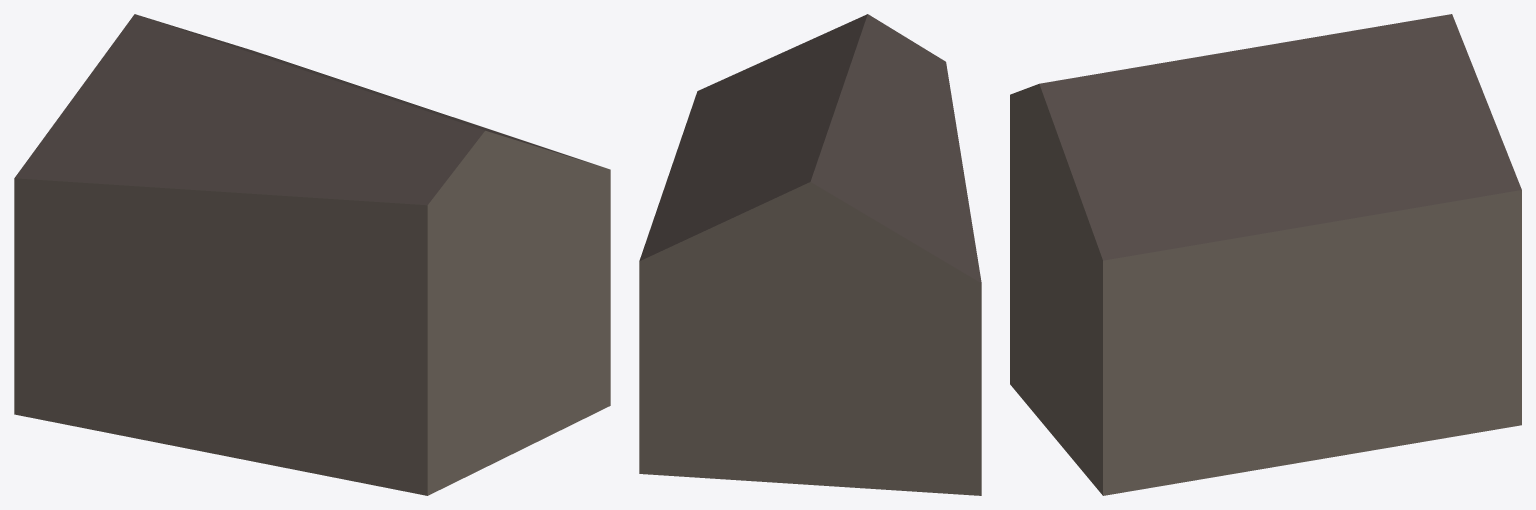
3 renders of one model, left to right at view 1: azimuth 30°, elevation 25°; view 2: azimuth 150°, elevation 25°; view 3: azimuth 270°, elevation 25°, orthographic. The views are drawn at different scales.
Visible parts, largest first — view 1: HP-w1198664281; view 2: HP-w1198664281; view 3: HP-w1198664281.
Boxes of the visible parts, x1,y1,x2,y2 form: HP-w1198664281: (14, 14, 610, 495); HP-w1198664281: (639, 14, 981, 495); HP-w1198664281: (1010, 14, 1521, 495).
Size of the model in its own units: 12.13 by 8.56 by 11.83.
